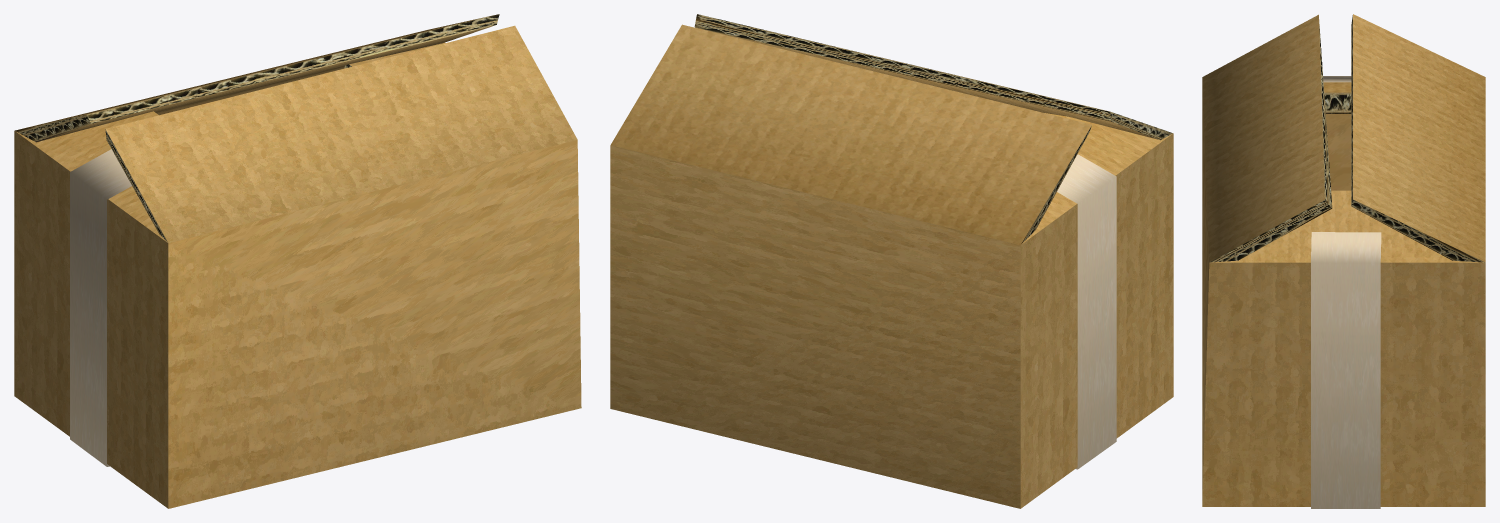
Rendered from Cardboard_Box_3.fbx.
The picture shows the model from 3 angles, left to right: view 1: azimuth 30°, elevation 25°; view 2: azimuth 150°, elevation 25°; view 3: azimuth 270°, elevation 25°; orthographic projection. The views are drawn at different scales.
Visible parts, largest first — view 1: Cardboard_Box3; view 2: Cardboard_Box3; view 3: Cardboard_Box3.
Boxes of the visible parts, x1,y1,x2,y2 form: Cardboard_Box3: (14, 14, 581, 508); Cardboard_Box3: (610, 14, 1173, 508); Cardboard_Box3: (1202, 14, 1485, 508).
Bounding box in the file's own units: 90.22 × 69.67 × 57.62.
